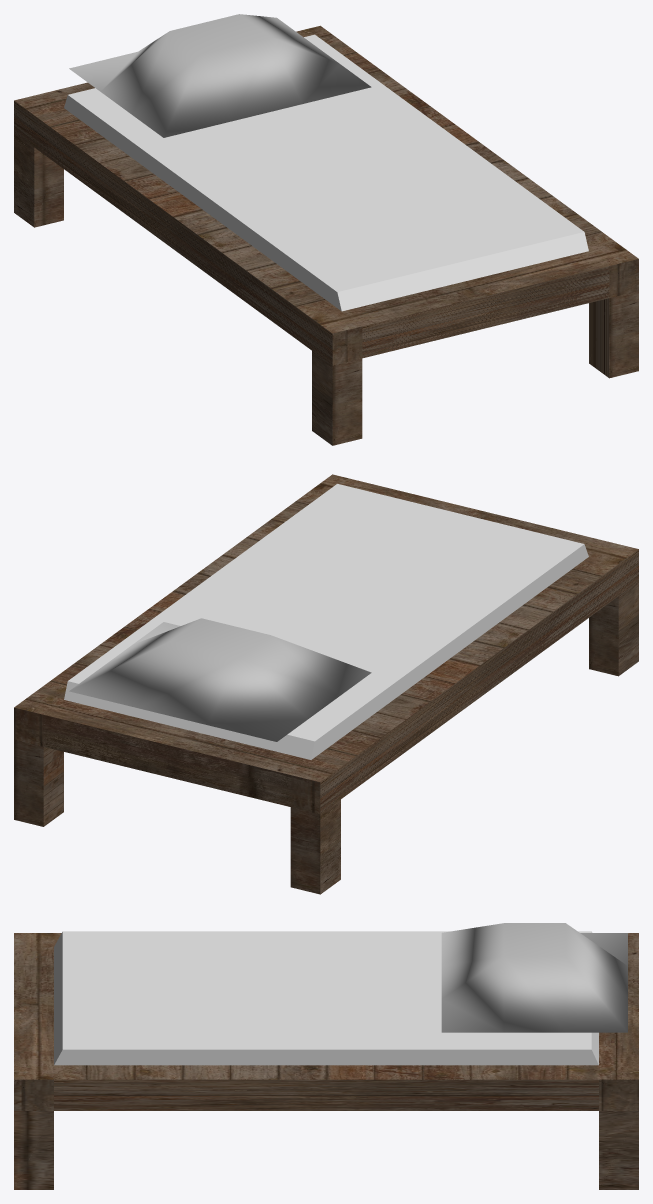
The model's file is bed.glb.
3 renders of one model, top to bottom at view 1: azimuth 30°, elevation 25°; view 2: azimuth 150°, elevation 25°; view 3: azimuth 270°, elevation 25°, orthographic.
Visible parts, largest first — view 1: Cube; view 2: Cube; view 3: Cube.
Part boxes in pixels (x1,y1,x2,y2): Cube: (14, 14, 638, 445); Cube: (14, 474, 638, 894); Cube: (14, 923, 638, 1189).
Bounding box in the file's own units: 1.13 × 0.6317 × 2.03.
3 materials, 1 textured.
